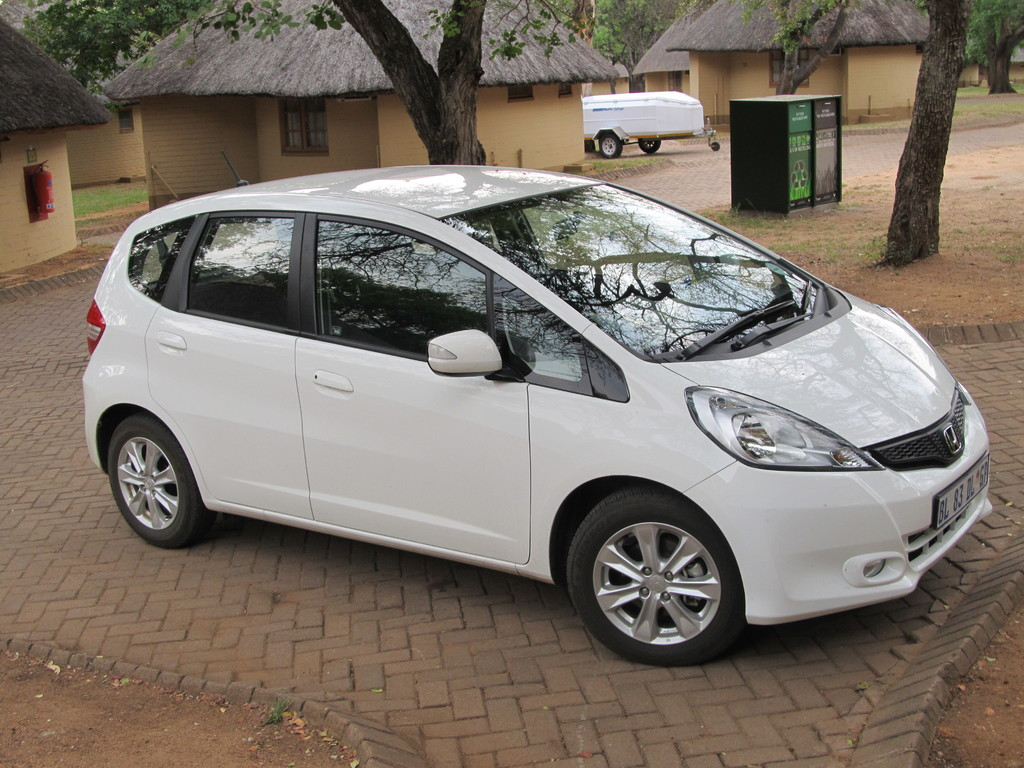Tree: (145, 0, 595, 163), (885, 0, 970, 264), (0, 0, 217, 101), (545, 0, 692, 90), (739, 0, 857, 93), (964, 0, 1024, 89)
